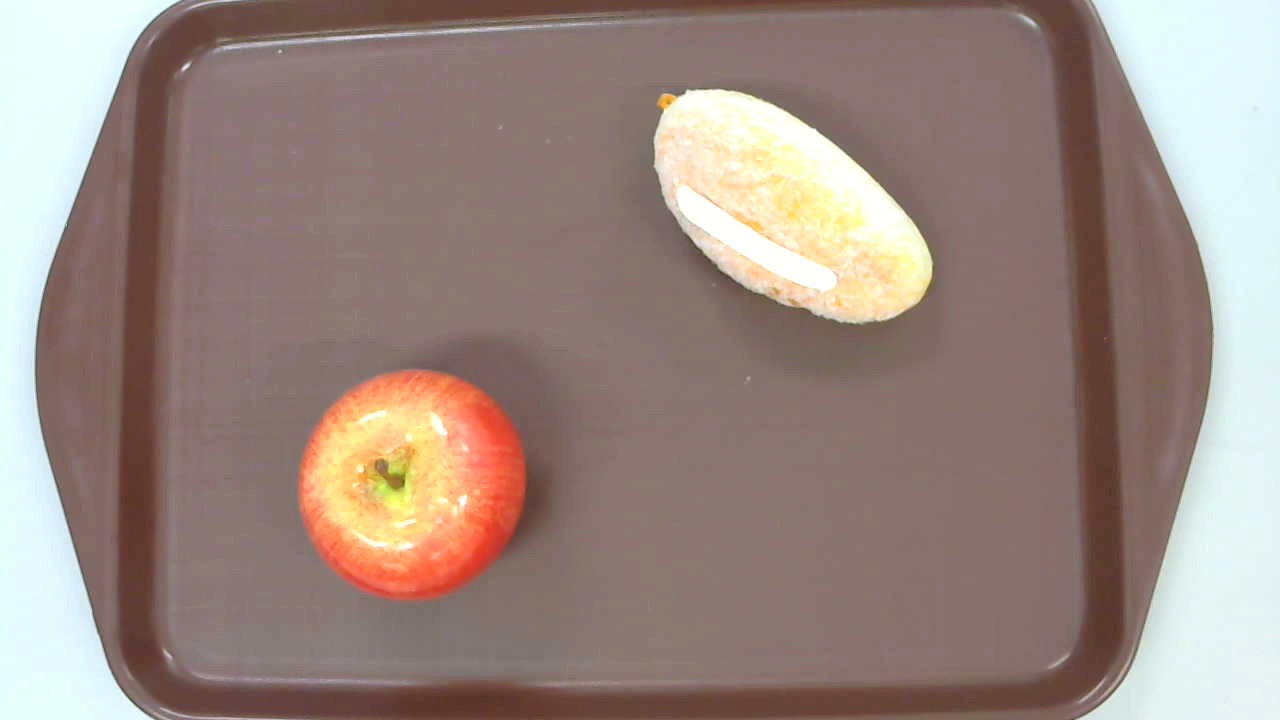coconut: (651, 88, 933, 326)
red apple: (298, 367, 529, 603)
